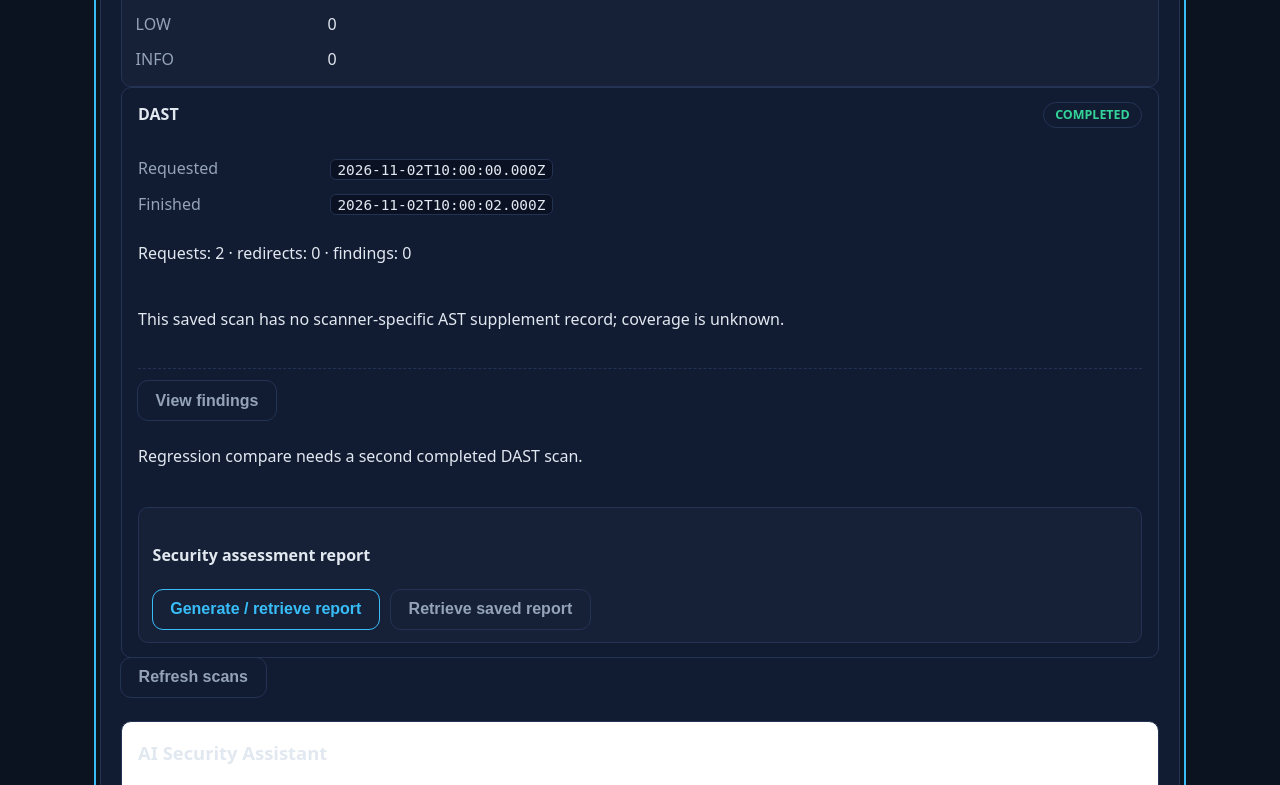
Test case: passive DAST project UI › an authenticated active scan discloses the mode, never the credential
(page scrolled)
Click the button with test id "view-findings". click: (207,401)
box: [138,381,276,420]
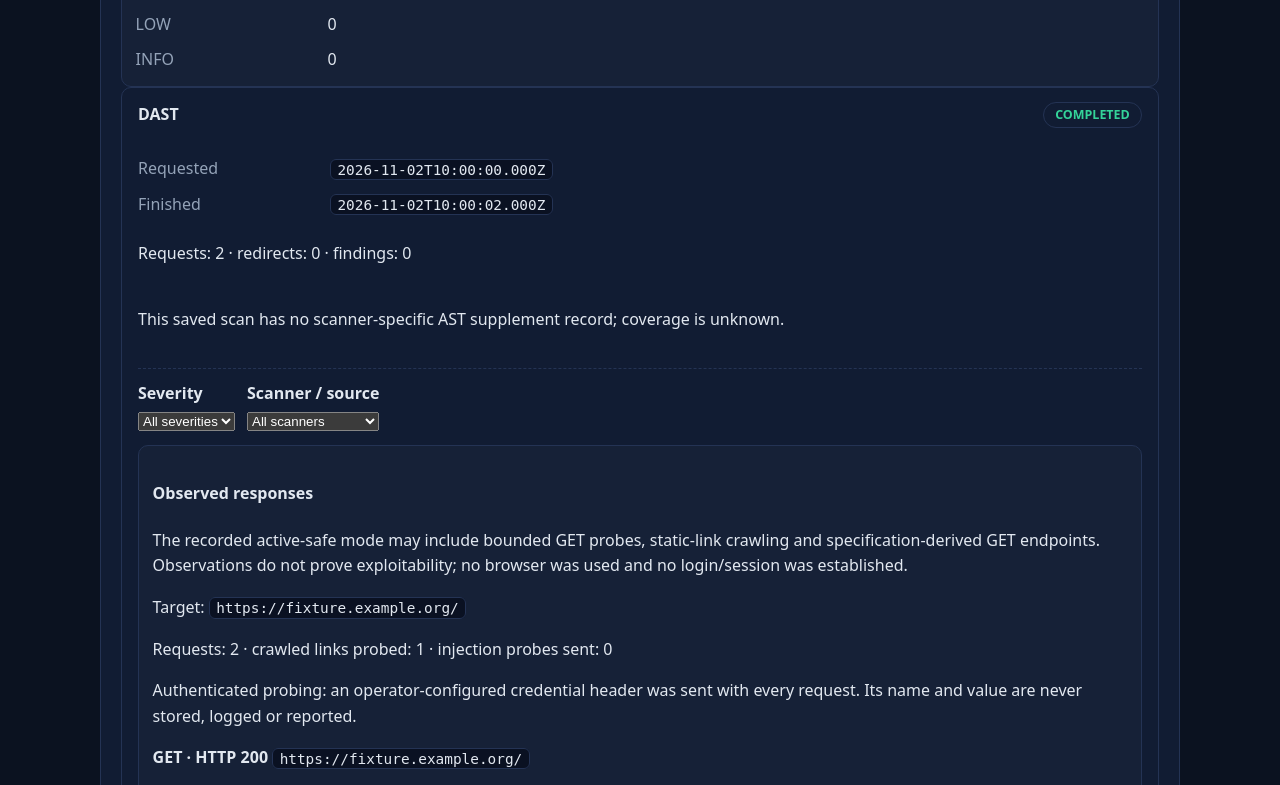
Check: the text with test id "dast-auth-mode" shows "operator-configured credential header", box [153,679,1082,727]
Check: the text with test id "dast-auth-mode" shows "never stored, logged or reported", box [153,679,1082,727]
Check: the text "no login/session was established" is shown, box [153,529,1100,576]
